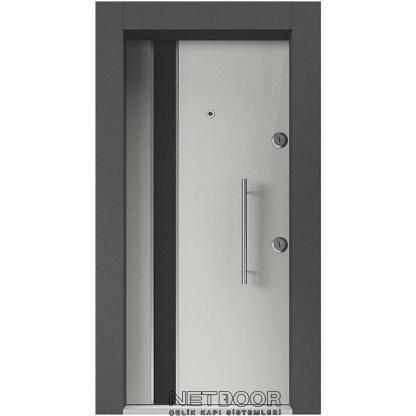door: (125, 39, 289, 406)
